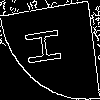H: (25, 24, 70, 67)
